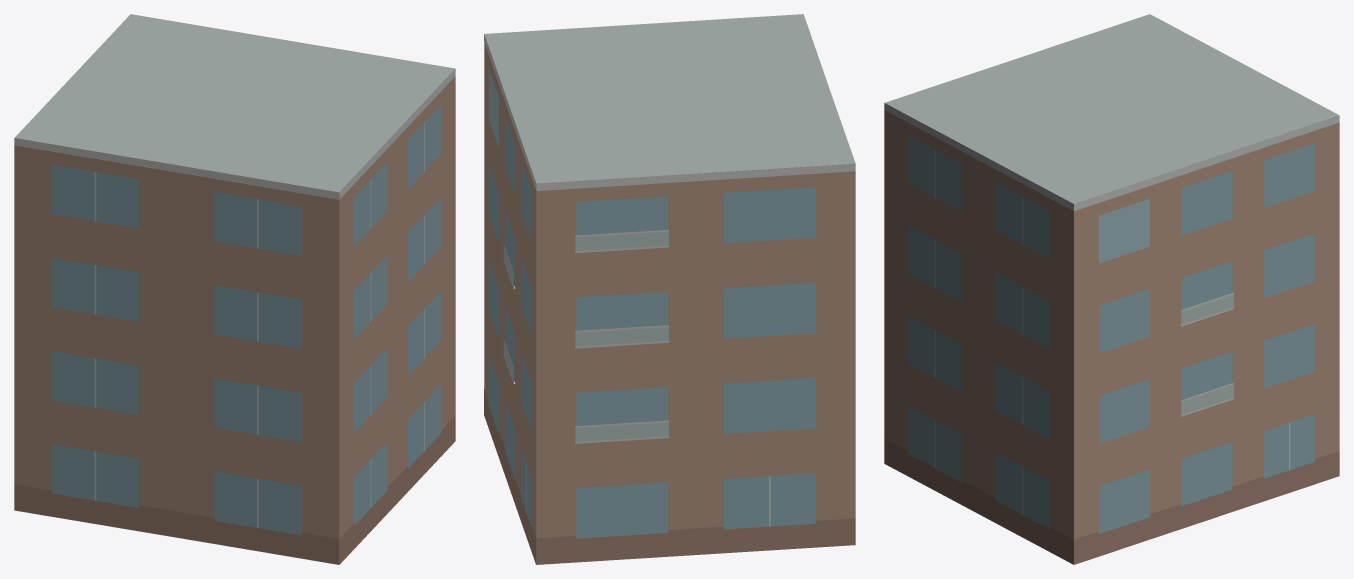
File: residential-0ed9d25f-5013-4b5b-9207-d274d8a31ee2.glb
The picture shows the model from 3 angles, left to right: view 1: azimuth 30°, elevation 25°; view 2: azimuth 150°, elevation 25°; view 3: azimuth 270°, elevation 25°; orthographic projection. The views are drawn at different scales.
Parts seen in each view (by area): view 1: residential-0ed9d25f-5013-4b5b-9207-d274d8a31ee2.tmp; view 2: residential-0ed9d25f-5013-4b5b-9207-d274d8a31ee2.tmp; view 3: residential-0ed9d25f-5013-4b5b-9207-d274d8a31ee2.tmp.
Boxes of the visible parts, x1,y1,x2,y2 form: residential-0ed9d25f-5013-4b5b-9207-d274d8a31ee2.tmp: (14, 14, 455, 564); residential-0ed9d25f-5013-4b5b-9207-d274d8a31ee2.tmp: (484, 14, 855, 564); residential-0ed9d25f-5013-4b5b-9207-d274d8a31ee2.tmp: (884, 14, 1339, 564).
Size of the model in its own units: 13.79 by 12.2 by 13.96.
